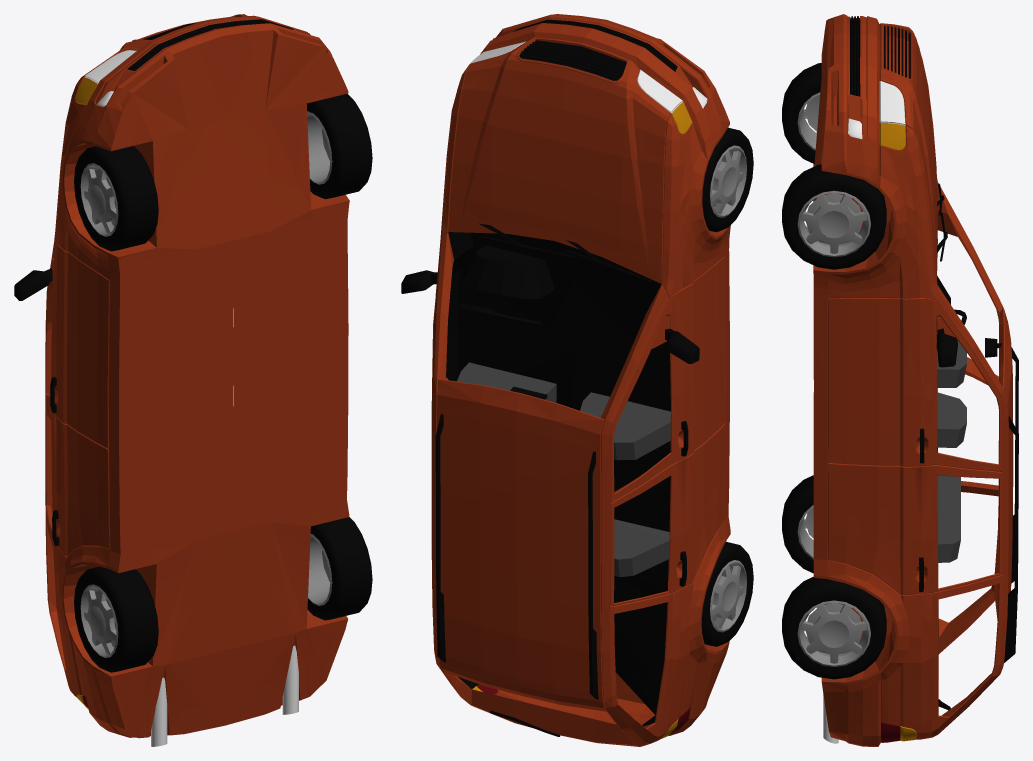
The model's file is Wagon.fbx.
The picture shows the model from 3 angles, left to right: view 1: azimuth 30°, elevation 25°; view 2: azimuth 150°, elevation 25°; view 3: azimuth 270°, elevation 25°; orthographic projection. The views are drawn at different scales.
Parts seen in each view (by area): view 1: Wagon Body.004; view 2: Wagon Body.004; view 3: Wagon Body.004.
Boxes of the visible parts, <box> form: Wagon Body.004: <box>14,14,372,746</box>; Wagon Body.004: <box>401,14,753,746</box>; Wagon Body.004: <box>782,14,1018,746</box>.
Bounding box in the file's own units: 219 × 493 × 155.
